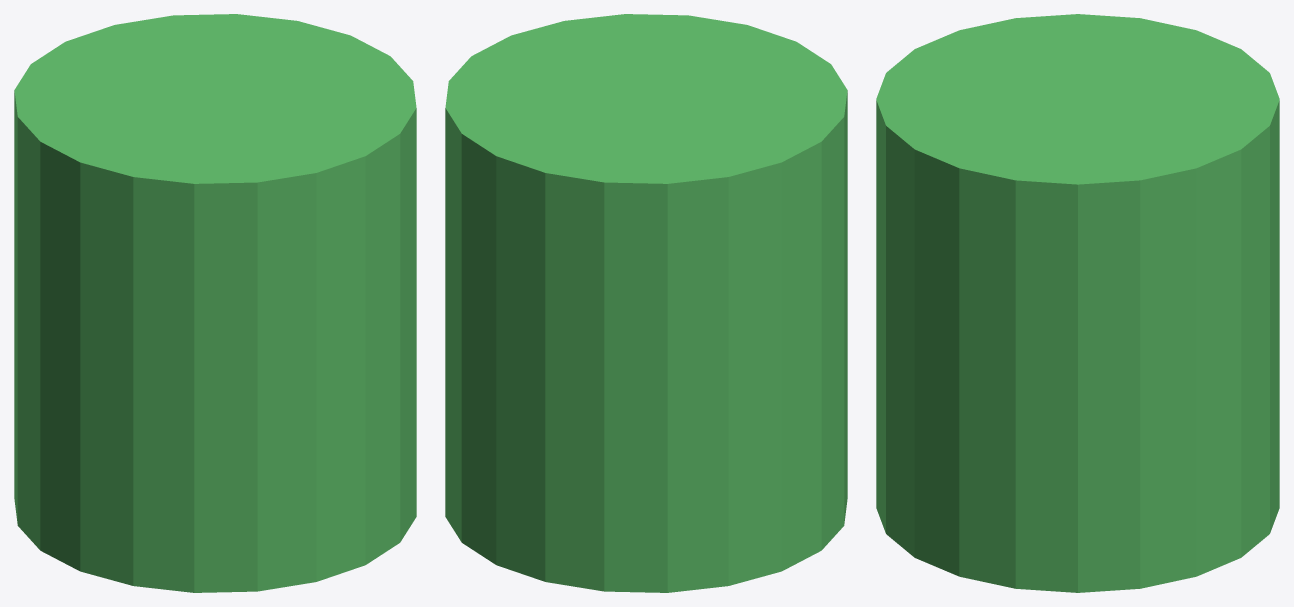
The model's file is fortress_round_tower_walkable_occluder.glb.
The picture shows the model from 3 angles, left to right: view 1: azimuth 30°, elevation 25°; view 2: azimuth 150°, elevation 25°; view 3: azimuth 270°, elevation 25°; orthographic projection.
Parts seen in each view (by area): view 1: fortress_round_tower_walkable-occluder; view 2: fortress_round_tower_walkable-occluder; view 3: fortress_round_tower_walkable-occluder.
Boxes of the visible parts, x1,y1,x2,y2 form: fortress_round_tower_walkable-occluder: [14, 14, 416, 592]; fortress_round_tower_walkable-occluder: [445, 14, 847, 592]; fortress_round_tower_walkable-occluder: [876, 14, 1279, 592].
Size of the model in its own units: 6.36 by 7.1 by 6.36.
